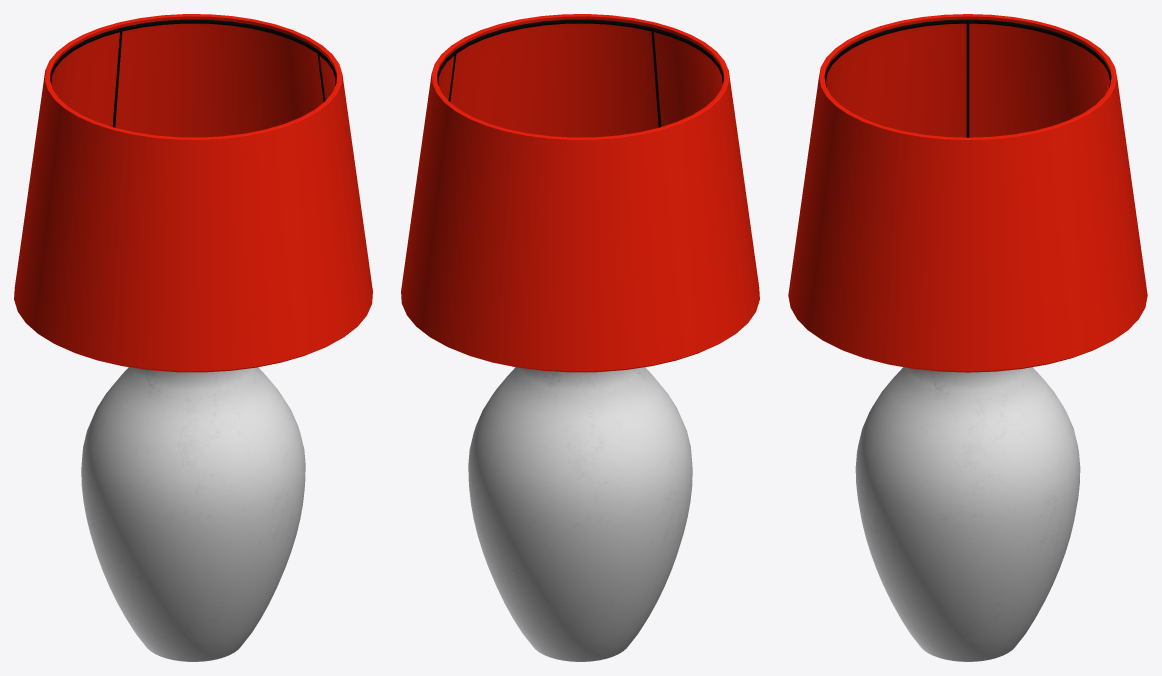
The model's file is lamp.glb.
The picture shows the model from 3 angles, left to right: view 1: azimuth 30°, elevation 25°; view 2: azimuth 150°, elevation 25°; view 3: azimuth 270°, elevation 25°; orthographic projection.
Parts seen in each view (by area): view 1: node_id30; view 2: node_id30; view 3: node_id30.
Part boxes in pixels (x1,y1,x2,y2): node_id30: (14, 14, 372, 661); node_id30: (401, 14, 759, 661); node_id30: (788, 14, 1147, 661).
Bounding box in the file's own units: 0.295 × 0.512 × 0.295.
1 material, 1 textured.
